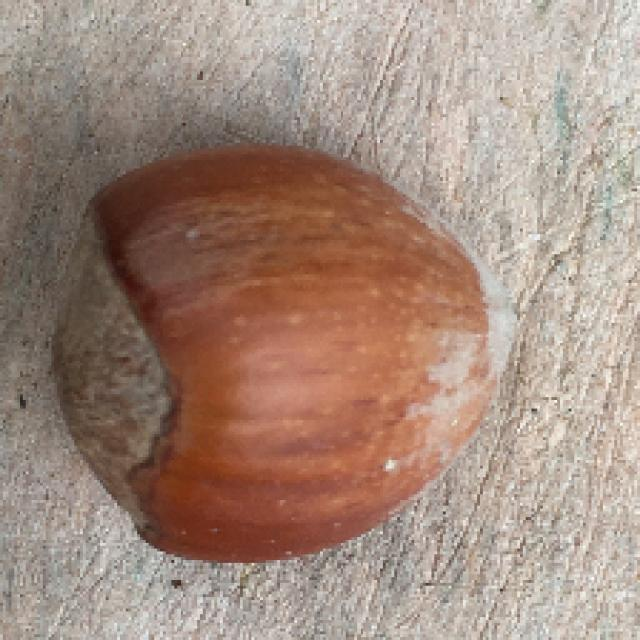qualityHazelnut: (46, 143, 523, 563)
